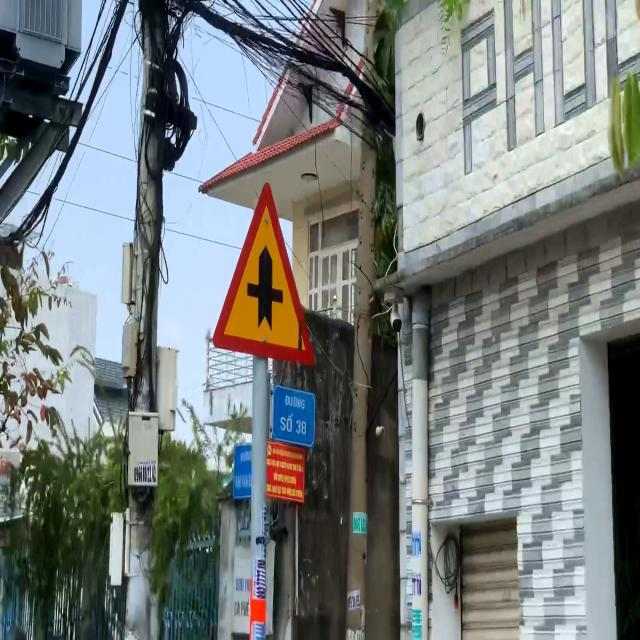Giao nhau voi duong khong uu tien: (208, 176, 320, 374)
